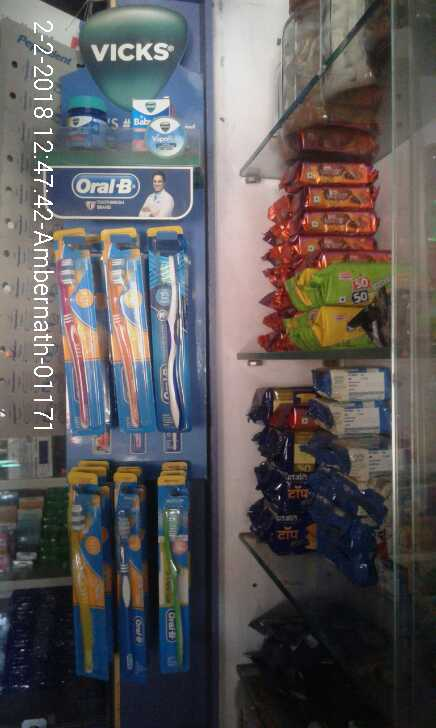pharmacy: (47, 238, 100, 444), (148, 476, 197, 668), (100, 241, 148, 436), (145, 254, 192, 432), (65, 469, 103, 678), (106, 470, 140, 674), (135, 93, 187, 164), (62, 80, 104, 147)
